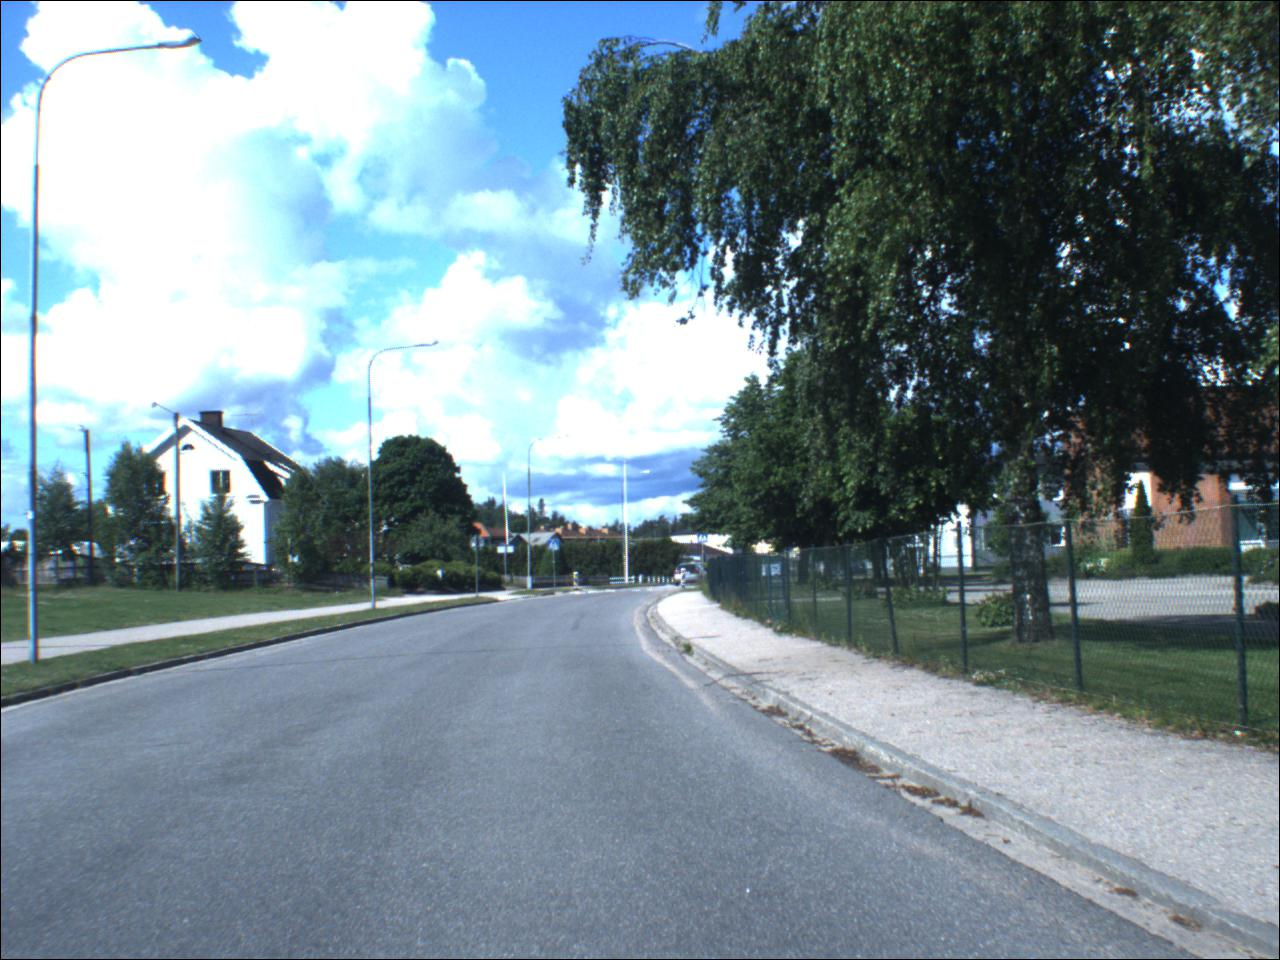PEDESTRIAN_CROSSING: (551, 541, 562, 552), (699, 533, 710, 545)
